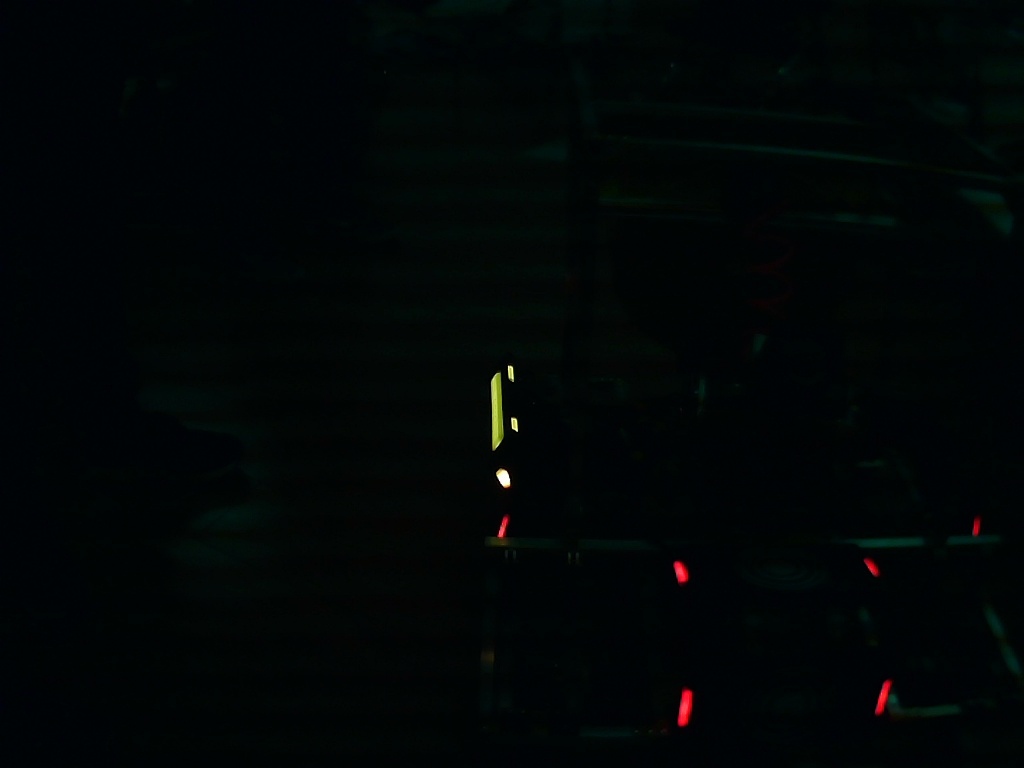lamp: (675, 683, 695, 729), (874, 675, 893, 719)
